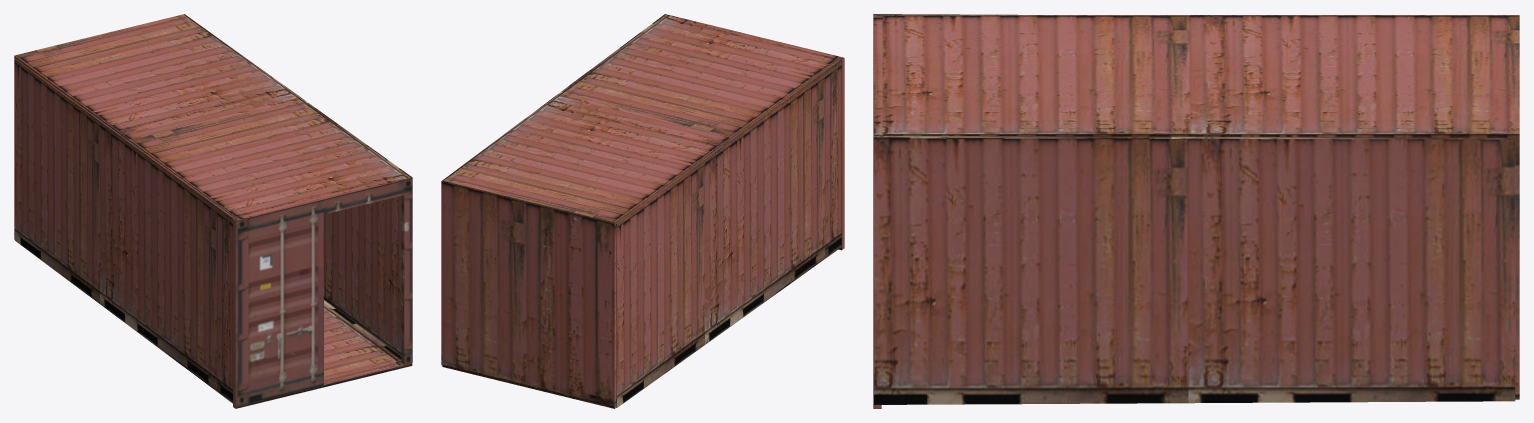
Rendered from Container Red door.FBX.
3 renders of one model, left to right at view 1: azimuth 30°, elevation 25°; view 2: azimuth 150°, elevation 25°; view 3: azimuth 270°, elevation 25°, orthographic. The views are drawn at different scales.
Visible parts, largest first — view 1: Container Red Door; view 2: Container Red Door; view 3: Container Red Door.
Boxes of the visible parts, x1,y1,x2,y2 form: Container Red Door: (14, 14, 412, 408); Container Red Door: (441, 14, 844, 408); Container Red Door: (873, 14, 1519, 408).
Bounding box in the file's own units: 284 × 289 × 623.
1 material, 1 textured.
